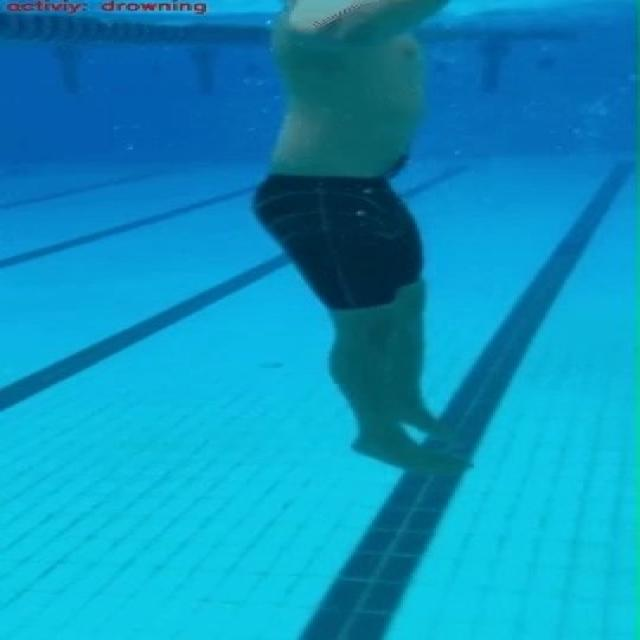Drowning: (242, 0, 519, 475)
